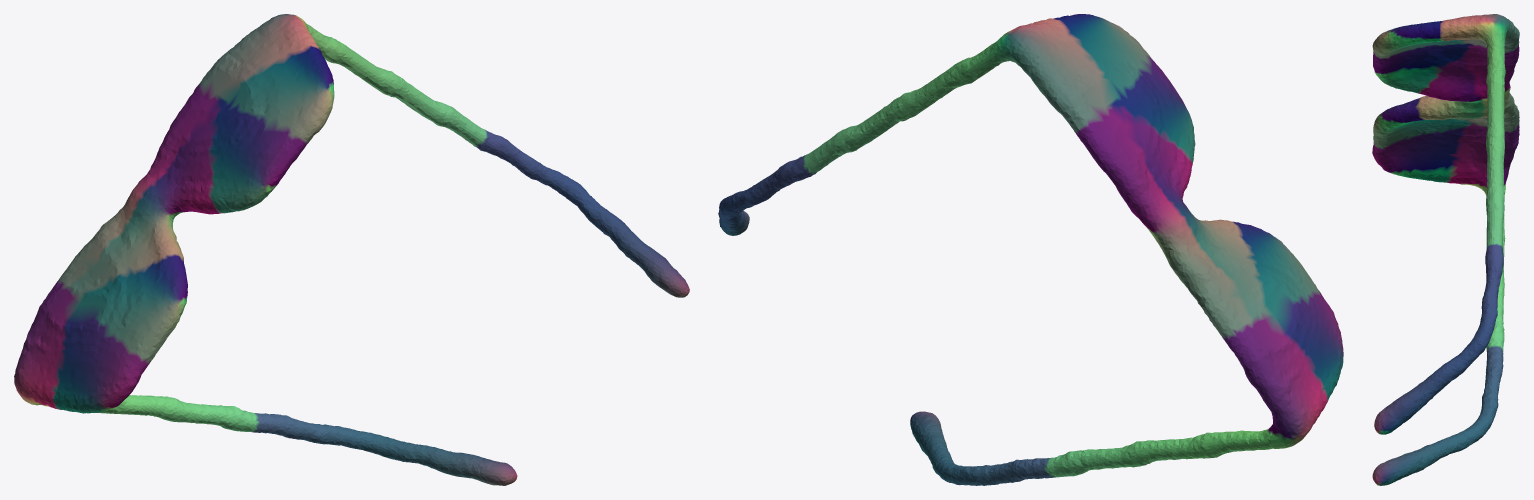
Rendered from glasses-6.off.obj.
3 renders of one model, left to right at view 1: azimuth 30°, elevation 25°; view 2: azimuth 150°, elevation 25°; view 3: azimuth 270°, elevation 25°, orthographic. The views are drawn at different scales.
Size of the model in its own units: 1.29 by 0.9393 by 0.3111.
